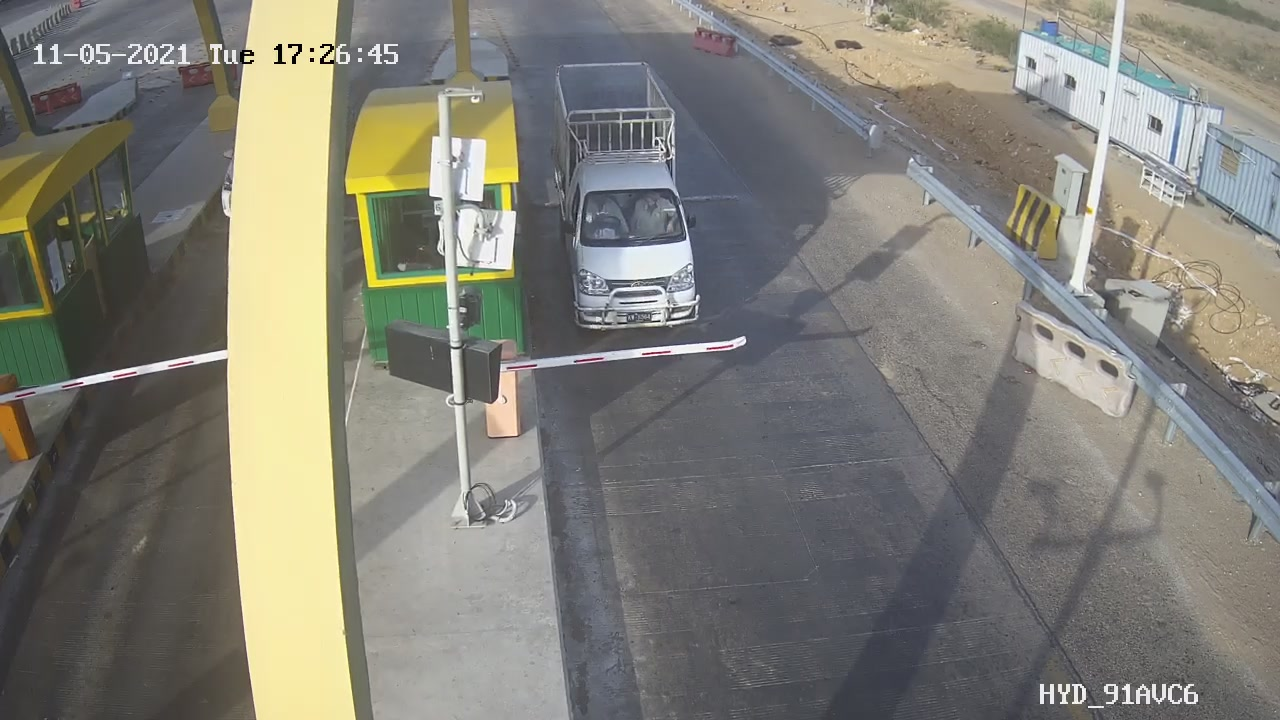F2: (529, 48, 730, 347)
